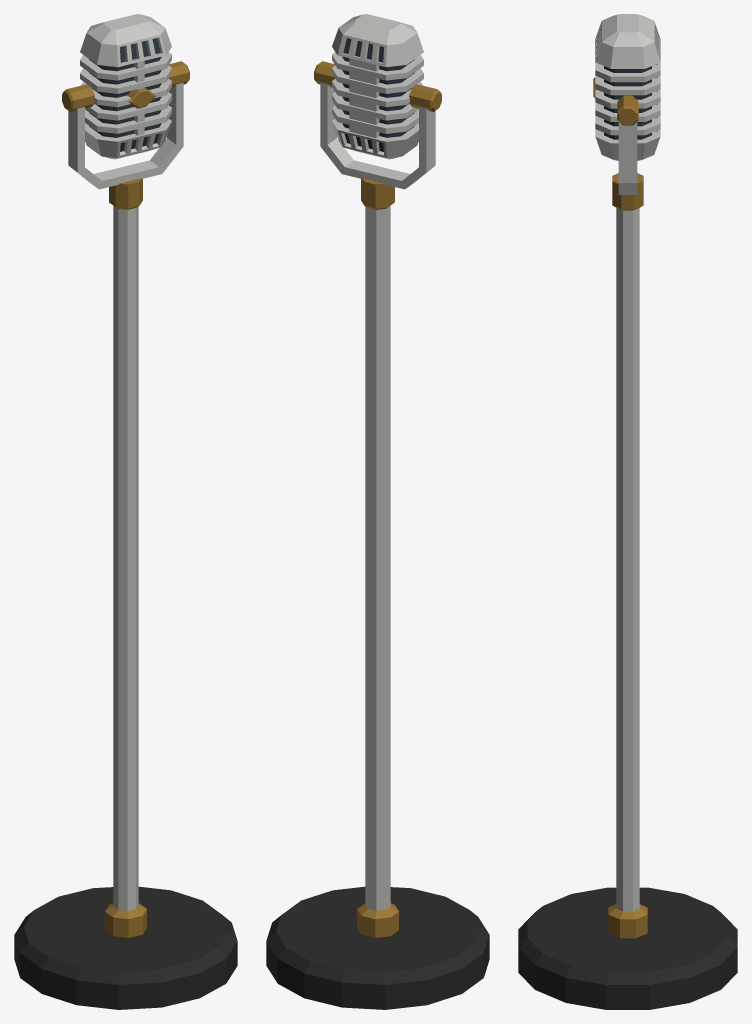
Rendered from vintage-microphone-stand-c5ba82.glb.
The picture shows the model from 3 angles, left to right: view 1: azimuth 30°, elevation 25°; view 2: azimuth 150°, elevation 25°; view 3: azimuth 270°, elevation 25°; orthographic projection.
Parts seen in each view (by area): view 1: object 1, object 2, head, object 3; view 2: object 1, object 2, head, object 3; view 3: object 1, object 2, head, object 3.
Part boxes in pixels (x1,y1,x2,y2): object 1: (14, 886, 237, 1009); object 2: (105, 178, 146, 937); head: (80, 14, 171, 159); object 3: (62, 61, 189, 189); object 1: (266, 886, 489, 1009); object 2: (357, 178, 398, 937); head: (332, 14, 423, 159); object 3: (314, 61, 441, 189); object 1: (518, 887, 737, 1009); object 2: (608, 173, 647, 938); head: (593, 14, 660, 161); object 3: (617, 95, 638, 194).
Bounding box in the file's own units: 0.4119 × 1.95 × 0.4119.
